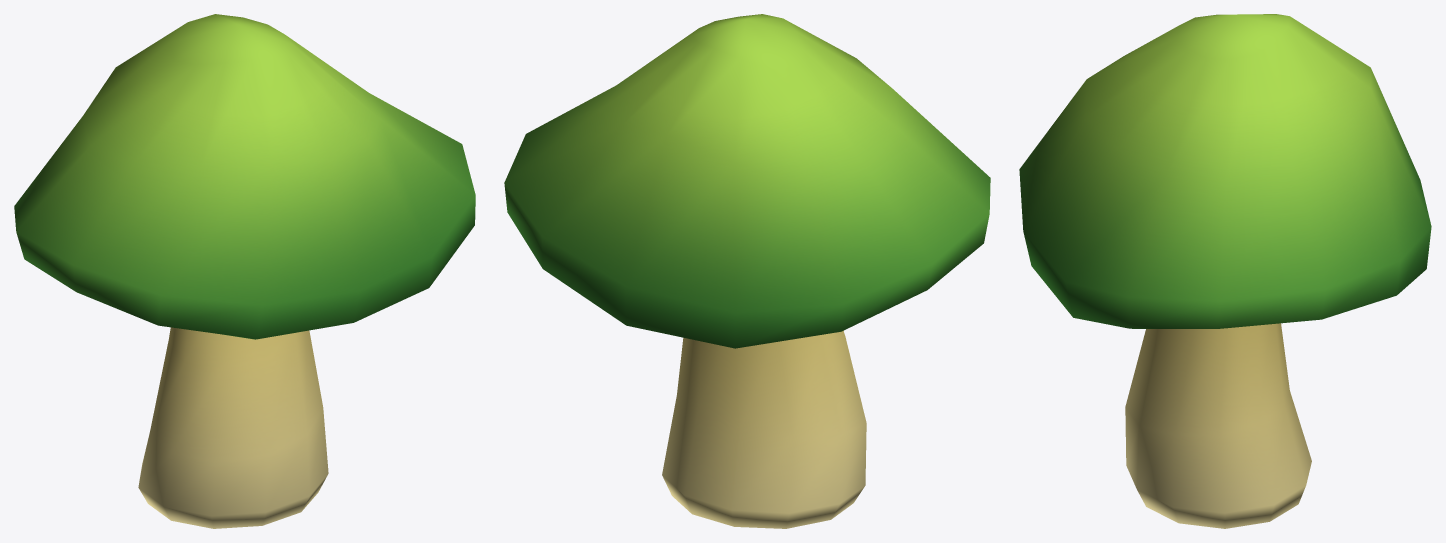
The model's file is mushroom_03.fbx.
3 views of the same model, side by side, from view 1: azimuth 30°, elevation 25°; view 2: azimuth 150°, elevation 25°; view 3: azimuth 270°, elevation 25° (orthographic). The views are drawn at different scales.
Visible parts, largest first — view 1: polySurface340, polySurface341; view 2: polySurface340, polySurface341; view 3: polySurface340, polySurface341.
Part boxes in pixels (box(x1,y1,x2,y2)): polySurface340: box(14, 14, 475, 339); polySurface341: box(138, 327, 328, 528); polySurface340: box(504, 14, 990, 348); polySurface341: box(662, 331, 866, 528); polySurface340: box(1019, 14, 1431, 328); polySurface341: box(1125, 323, 1311, 528).
Bounding box in the file's own units: 1.63 × 1.72 × 1.33.
